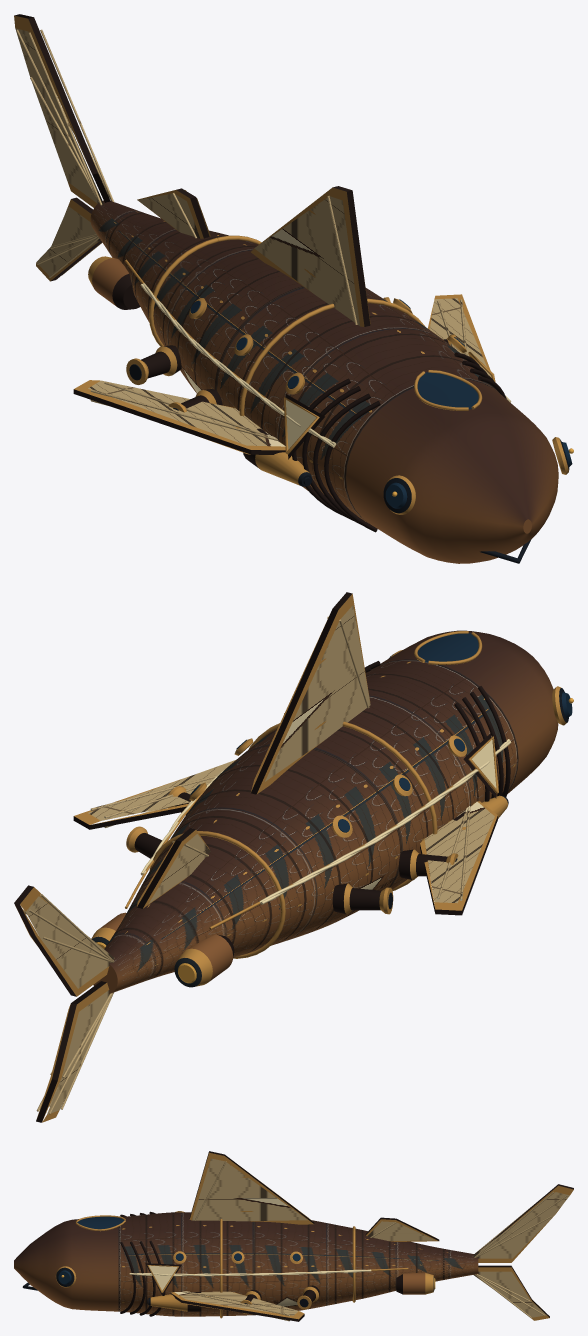
3 views of the same model, one above another, from view 1: azimuth 30°, elevation 25°; view 2: azimuth 150°, elevation 25°; view 3: azimuth 270°, elevation 25° (orthographic). The views are drawn at different scales.
Visible parts, largest first — view 1: tiger_shark_hull; view 2: tiger_shark_hull; view 3: tiger_shark_hull.
Part boxes in pixels (x1=…): tiger_shark_hull: x1=14, y1=14, x2=573, y2=563; tiger_shark_hull: x1=14, y1=592, x2=573, y2=1122; tiger_shark_hull: x1=14, y1=1151, x2=573, y2=1321.
Bounding box in the file's own units: 35.12 × 26.52 × 80.
1 material, 1 textured.
